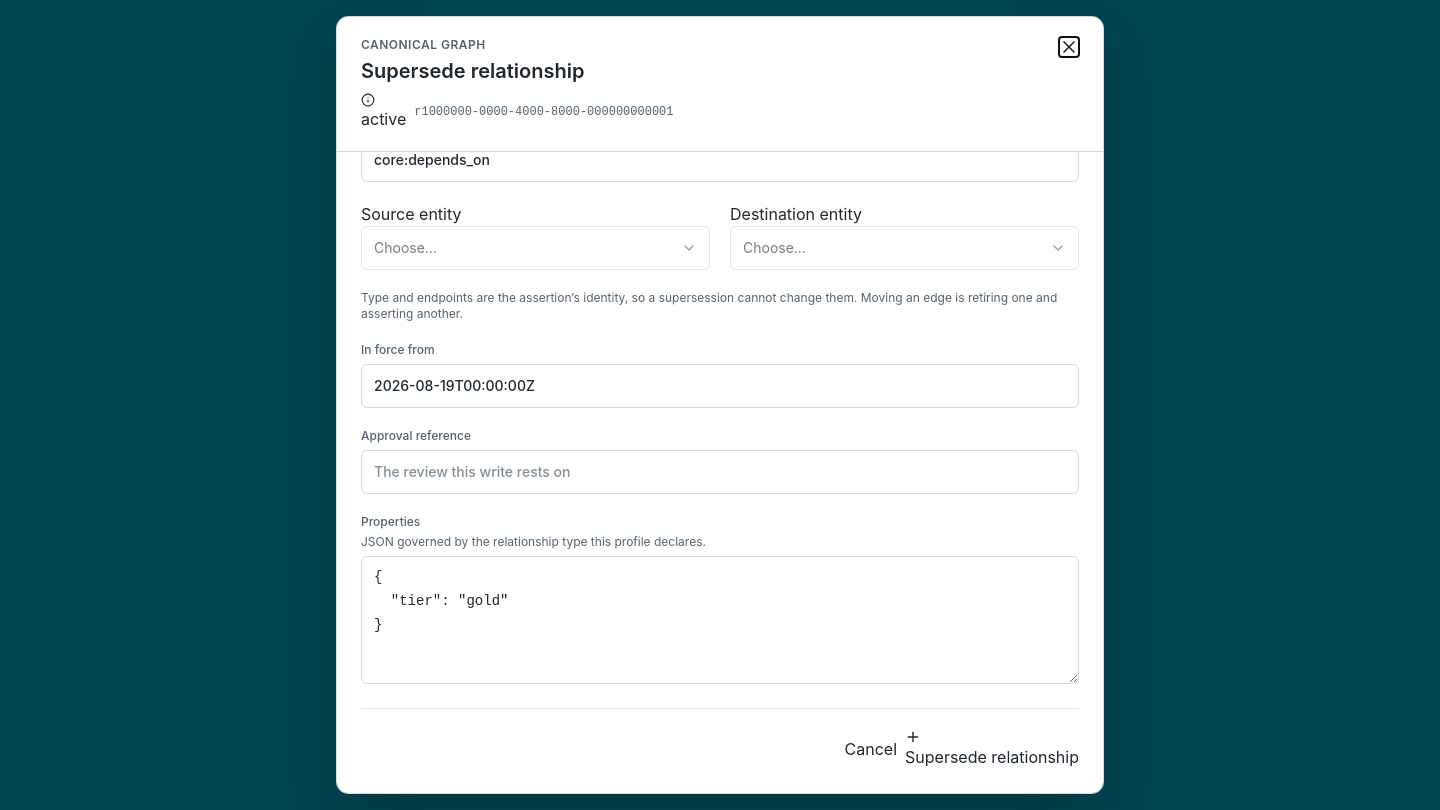
Test: RelationshipAuthoringDialog — superseding › refuses properties that are not a JSON object
(page scrolled)
Expected: the field labelled "Relationship type" is shown, [361, 138, 1079, 182]
Replace the text in the text box labelled "Properties" with "[1,2]": (720, 620) [361, 556, 1079, 684]
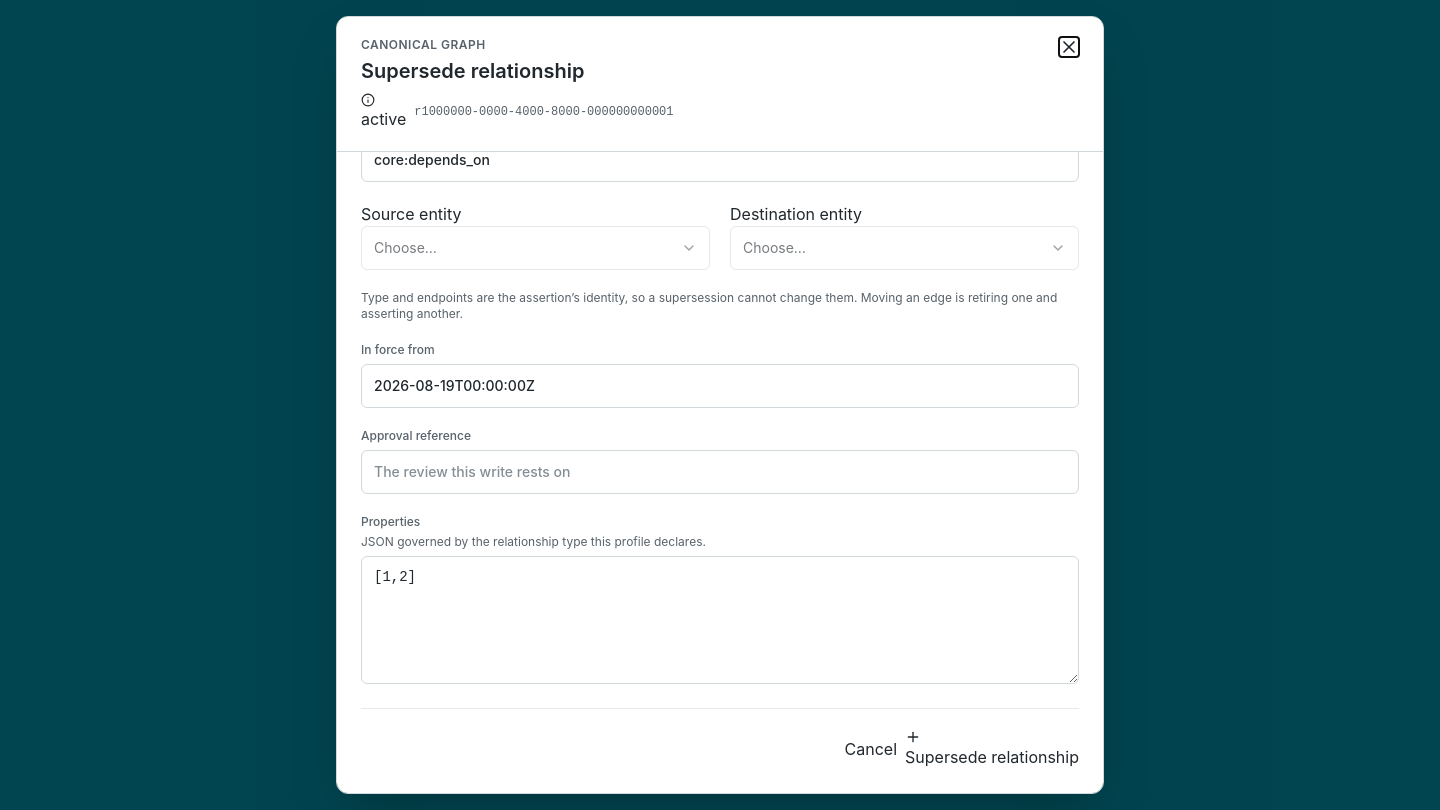
In the field labelled "Approval reference": (720, 472) [361, 450, 1079, 494], type "review-9"
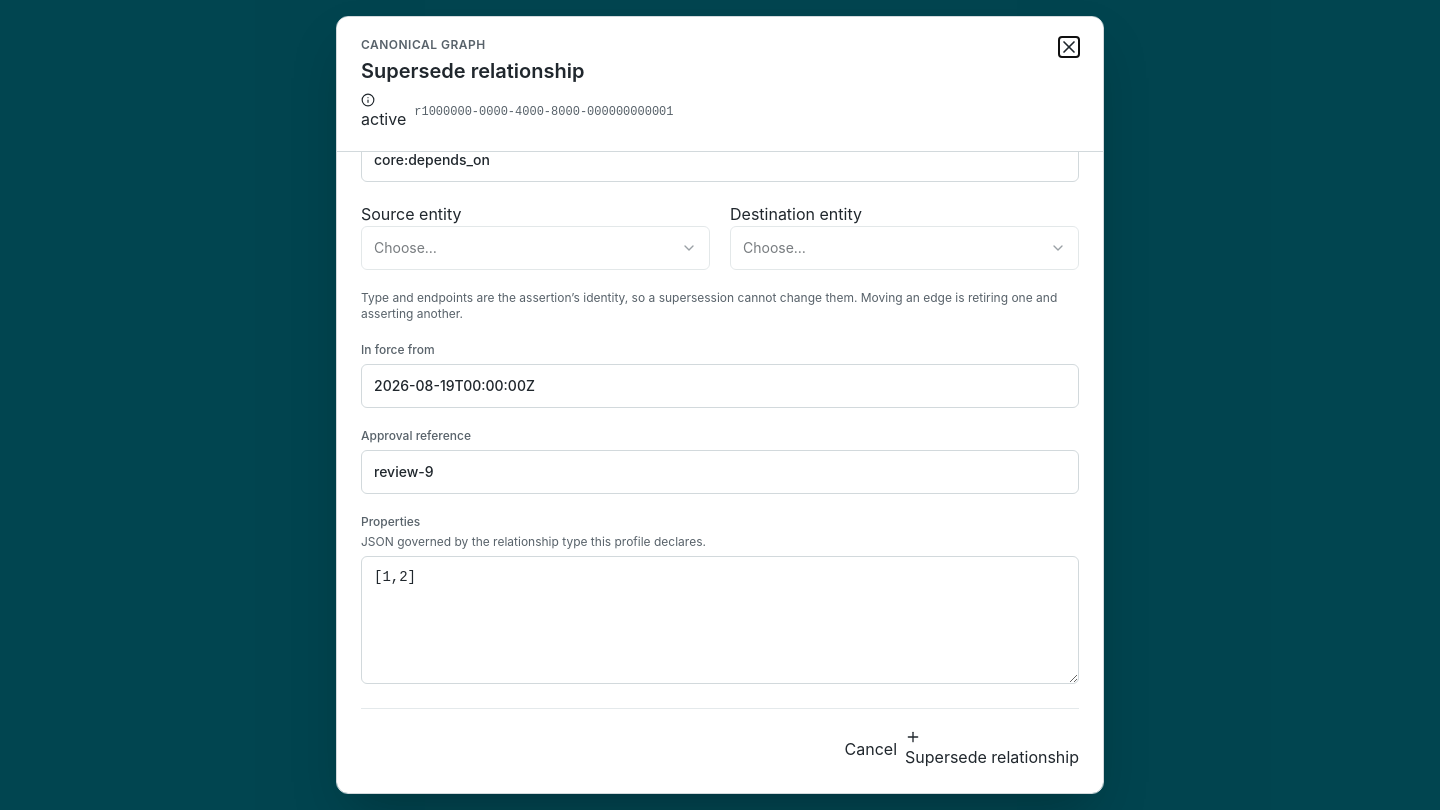
Click the button "Supersede relationship": click(992, 749) [905, 729, 1079, 769]
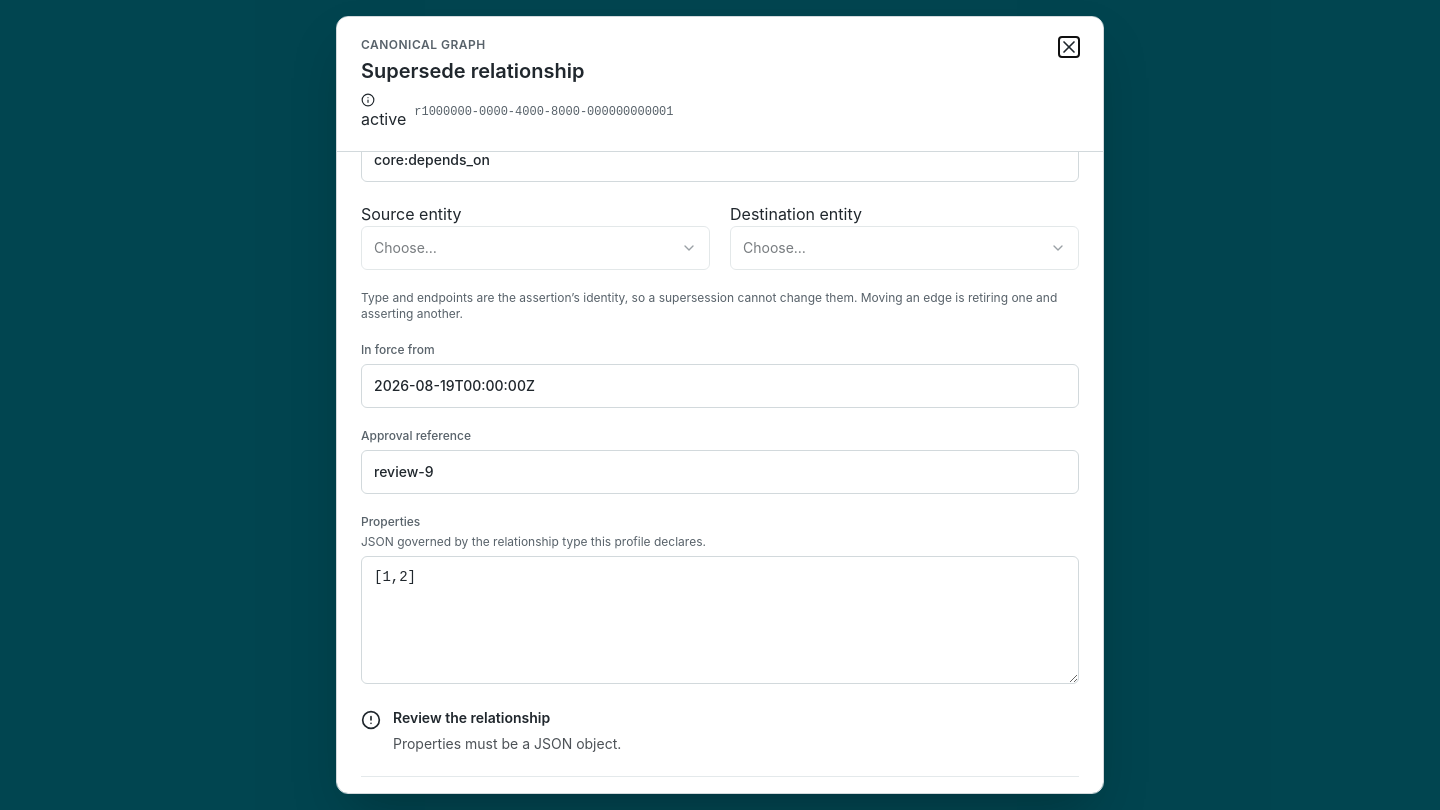
Result: the text "Properties must be a JSON object." is shown at [393, 732, 621, 756]
